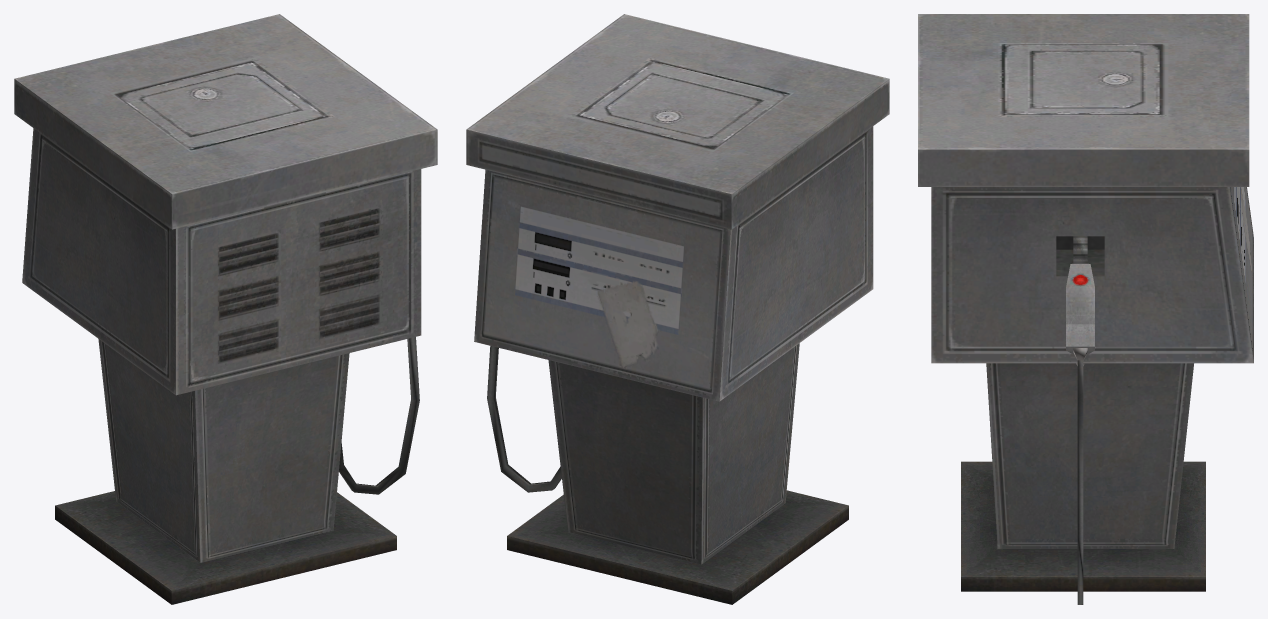
Rendered from Prop_Jaiyouji.glb.
The picture shows the model from 3 angles, left to right: view 1: azimuth 30°, elevation 25°; view 2: azimuth 150°, elevation 25°; view 3: azimuth 270°, elevation 25°; orthographic projection. The views are drawn at different scales.
Visible parts, largest first — view 1: xiutz_jaiyouji; view 2: xiutz_jaiyouji; view 3: xiutz_jaiyouji.
Part boxes in pixels (<box>): xiutz_jaiyouji: <box>14,14,437,604</box>; xiutz_jaiyouji: <box>466,14,889,604</box>; xiutz_jaiyouji: <box>918,14,1253,604</box>.
Size of the model in its own units: 1.97 by 2.5 by 1.68.
1 material, 1 textured.
